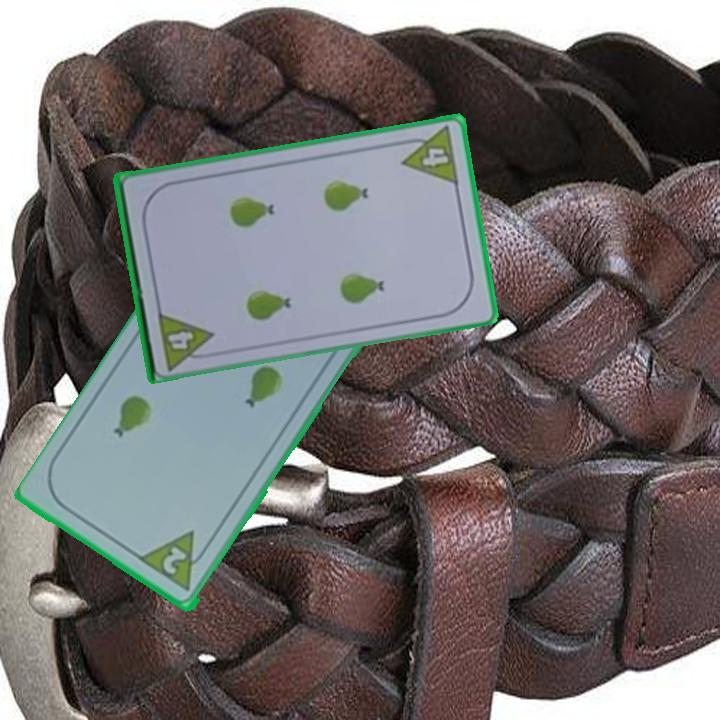2p: (159, 543, 191, 578)
4p: (395, 123, 462, 187), (154, 306, 219, 371)
